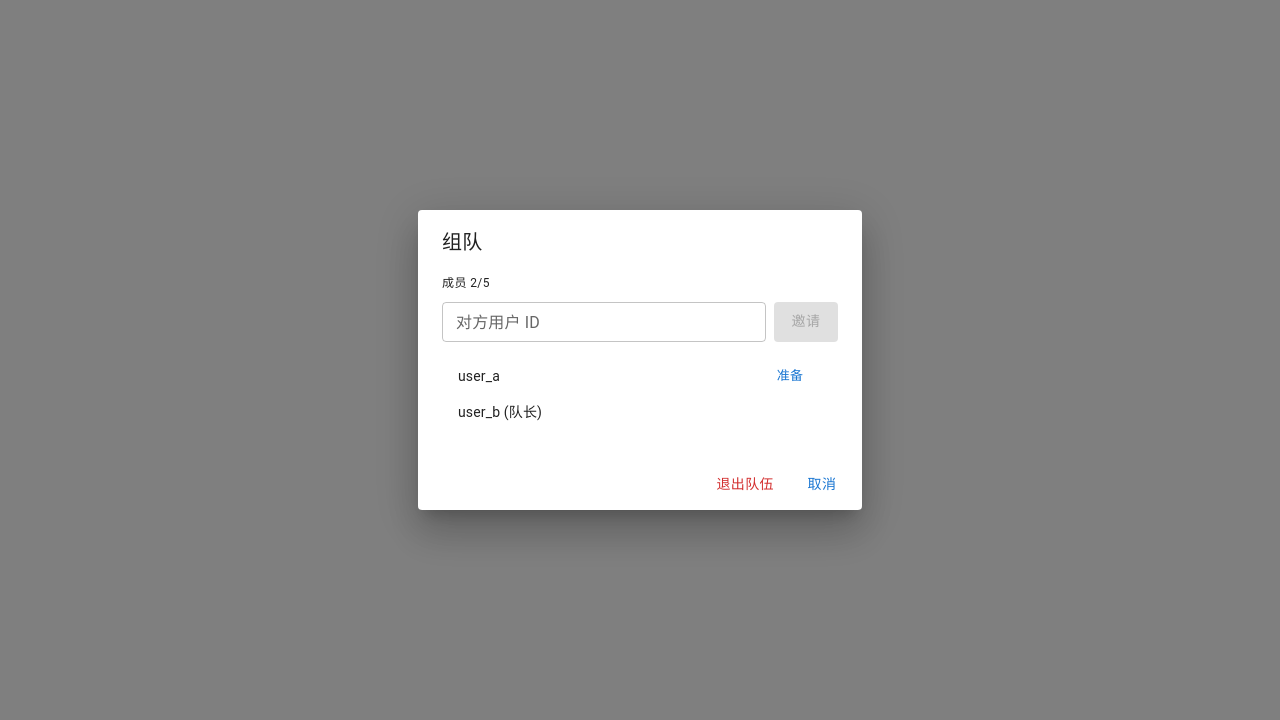
Test case: PartyDialog › leaves the party after a confirm
The image size is (1280, 720).
Click the button with test id "party-leave": (745, 484) [708,466,782,502]
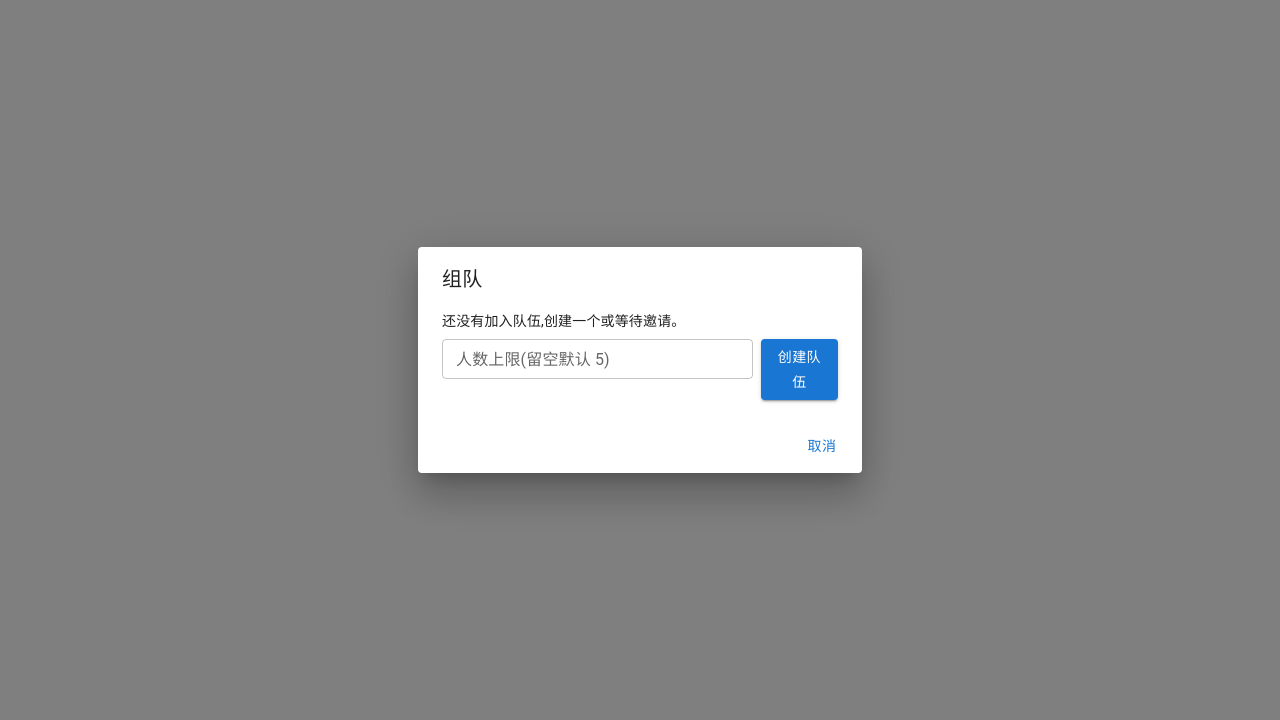
Check: the text "还没有加入队伍,创建一个或等待邀请。" is shown, box [442,313,686,329]
